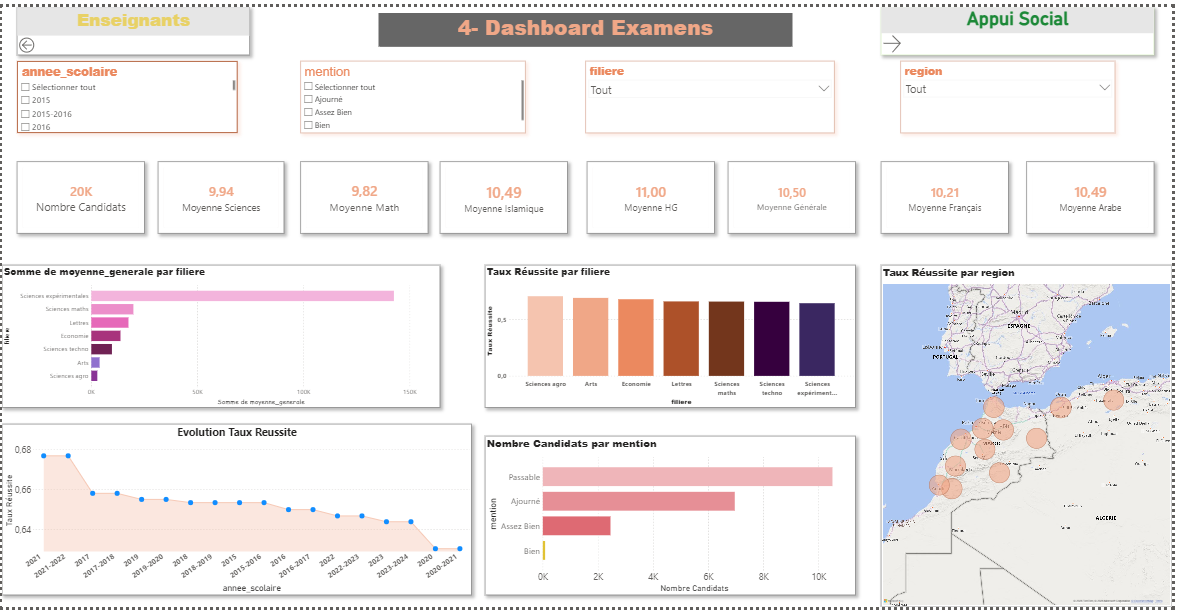

This screenshot's page, from the dashboard's own definition file:
{"tool":"powerbi","page":{"name":"Examens","canvas":[3900,2000],"ordinal":3},"visuals":[{"type":"map","fields":{"Category":["gold dim_region.region"],"Size":["Mesures.Taux Réussite"]},"box":[2930,860,970,1140],"z":0},{"type":"columnChart","fields":{"Y":["Mesures.Taux Réussite"],"Category":["gold fact_examens.filiere"]},"box":[1610,860,1235,475],"z":1},{"type":"barChart","fields":{"Category":["gold fact_examens.mention"],"Y":["Mesures.Nombre Candidats"]},"box":[1610,1430,1235,530],"z":2},{"type":"barChart","fields":{"Category":["gold fact_examens.filiere"],"Y":["Sum(gold fact_examens.moyenne_generale)"]},"box":[0,860,1460,475],"z":3},{"type":"lineChart","title":"Evolution Taux Reussite","fields":{"Category":["gold dim_date.annee_scolaire"],"Y":["Mesures.Taux Réussite"]},"box":[0,1390,1565,570],"z":4},{"type":"cardVisual","fields":{"Data":["Mesures.Nombre Candidats"]},"box":[50,515,425,240],"z":5},{"type":"cardVisual","fields":{"Data":["Mesures.Moyenne Sciences"]},"box":[520,515,420,240],"z":6},{"type":"cardVisual","fields":{"Data":["Mesures.Moyenne Math"]},"box":[995,515,425,240],"z":7},{"type":"cardVisual","fields":{"Data":["Mesures.Moyenne Islamique"]},"box":[1460,515,425,240],"z":8},{"type":"cardVisual","fields":{"Data":["Mesures.Moyenne HG"]},"box":[1950,515,425,240],"z":9},{"type":"cardVisual","fields":{"Data":["Mesures.Moyenne Générale"]},"box":[2420,515,425,240],"z":10},{"type":"cardVisual","fields":{"Data":["Mesures.Moyenne Français"]},"box":[2930,515,425,240],"z":11},{"type":"cardVisual","fields":{"Data":["Mesures.Moyenne Arabe"]},"box":[3415,515,425,240],"z":12},{"type":"textbox","title":"4- Dashboard Examens","box":[1255,20,1380,140],"z":13},{"type":"slicer","fields":{"Values":["gold dim_date.annee_scolaire"]},"box":[50,180,735,240],"z":14},{"type":"slicer","fields":{"Values":["gold fact_examens.mention"]},"box":[995,180,750,240],"z":15},{"type":"slicer","fields":{"Values":["gold fact_examens.filiere"]},"box":[1945,180,830,240],"z":16},{"type":"slicer","fields":{"Values":["gold dim_region.region"]},"box":[2995,180,715,240],"z":17},{"type":"actionButton","title":"Appui Social ","box":[2930,0,910,160],"z":18},{"type":"actionButton","title":"Enseignants","box":[50,0,775,160],"z":19}]}

Visuals, with their boxes in screenshot pixels (x1, y1, x2, y2), scaled from the page's 3900x2000 canvas onto the 1180x614 screenshot:
map - gold dim_region.region x Mesures.Taux Réussite: <region>887, 264, 1179, 613</region>
columnChart - Mesures.Taux Réussite x gold fact_examens.filiere: <region>487, 264, 861, 410</region>
barChart - gold fact_examens.mention x Mesures.Nombre Candidats: <region>487, 439, 861, 602</region>
barChart - gold fact_examens.filiere x Sum(gold fact_examens.moyenne_generale): <region>0, 264, 442, 410</region>
"Evolution Taux Reussite" lineChart: <region>0, 427, 474, 602</region>
cardVisual - Mesures.Nombre Candidats: <region>15, 158, 144, 232</region>
cardVisual - Mesures.Moyenne Sciences: <region>157, 158, 284, 232</region>
cardVisual - Mesures.Moyenne Math: <region>301, 158, 430, 232</region>
cardVisual - Mesures.Moyenne Islamique: <region>442, 158, 570, 232</region>
cardVisual - Mesures.Moyenne HG: <region>590, 158, 719, 232</region>
cardVisual - Mesures.Moyenne Générale: <region>732, 158, 861, 232</region>
cardVisual - Mesures.Moyenne Français: <region>887, 158, 1015, 232</region>
cardVisual - Mesures.Moyenne Arabe: <region>1033, 158, 1162, 232</region>
"4- Dashboard Examens" textbox: <region>380, 6, 797, 49</region>
slicer - gold dim_date.annee_scolaire: <region>15, 55, 238, 129</region>
slicer - gold fact_examens.mention: <region>301, 55, 528, 129</region>
slicer - gold fact_examens.filiere: <region>588, 55, 840, 129</region>
slicer - gold dim_region.region: <region>906, 55, 1123, 129</region>
"Appui Social " actionButton: <region>887, 0, 1162, 49</region>
"Enseignants" actionButton: <region>15, 0, 250, 49</region>
